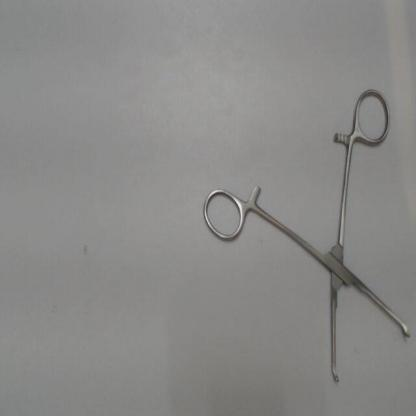Allis Tissue Forceps: (192, 81, 415, 396)
